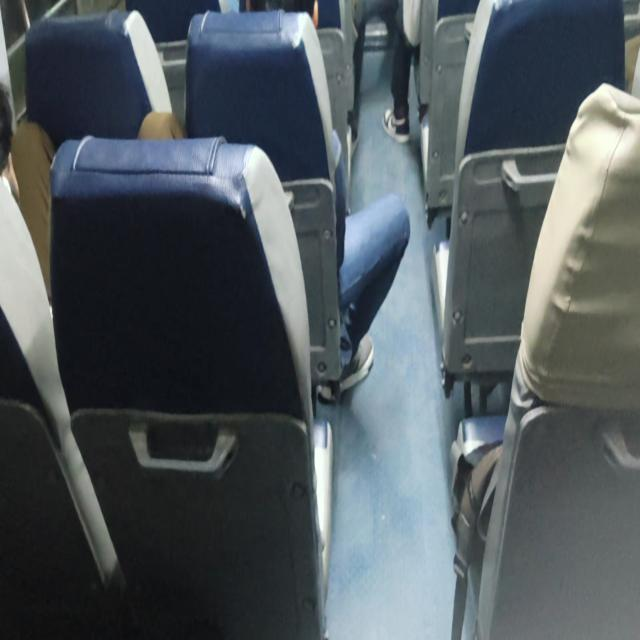person: (137, 4, 411, 397), (450, 81, 639, 637), (8, 9, 184, 303), (382, 0, 429, 145), (0, 82, 21, 205)
